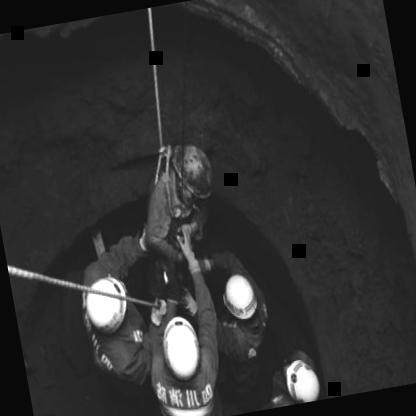helmet: (154, 309, 209, 386), (166, 138, 220, 210), (80, 271, 133, 333), (218, 268, 264, 324), (276, 356, 324, 405)
